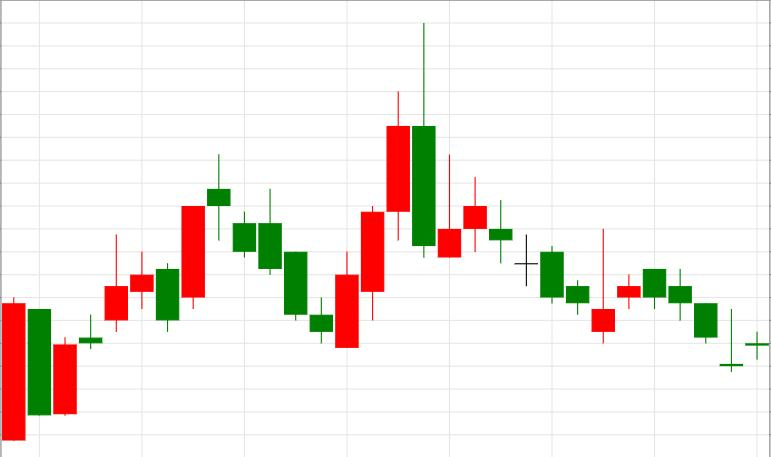bearish_engulfing_fall: (335, 22, 436, 349)
bullish_engulfing_rise: (207, 154, 359, 348)
inverse_hammer_rise: (464, 177, 614, 343)
shooting_star_fall: (2, 235, 128, 441)
